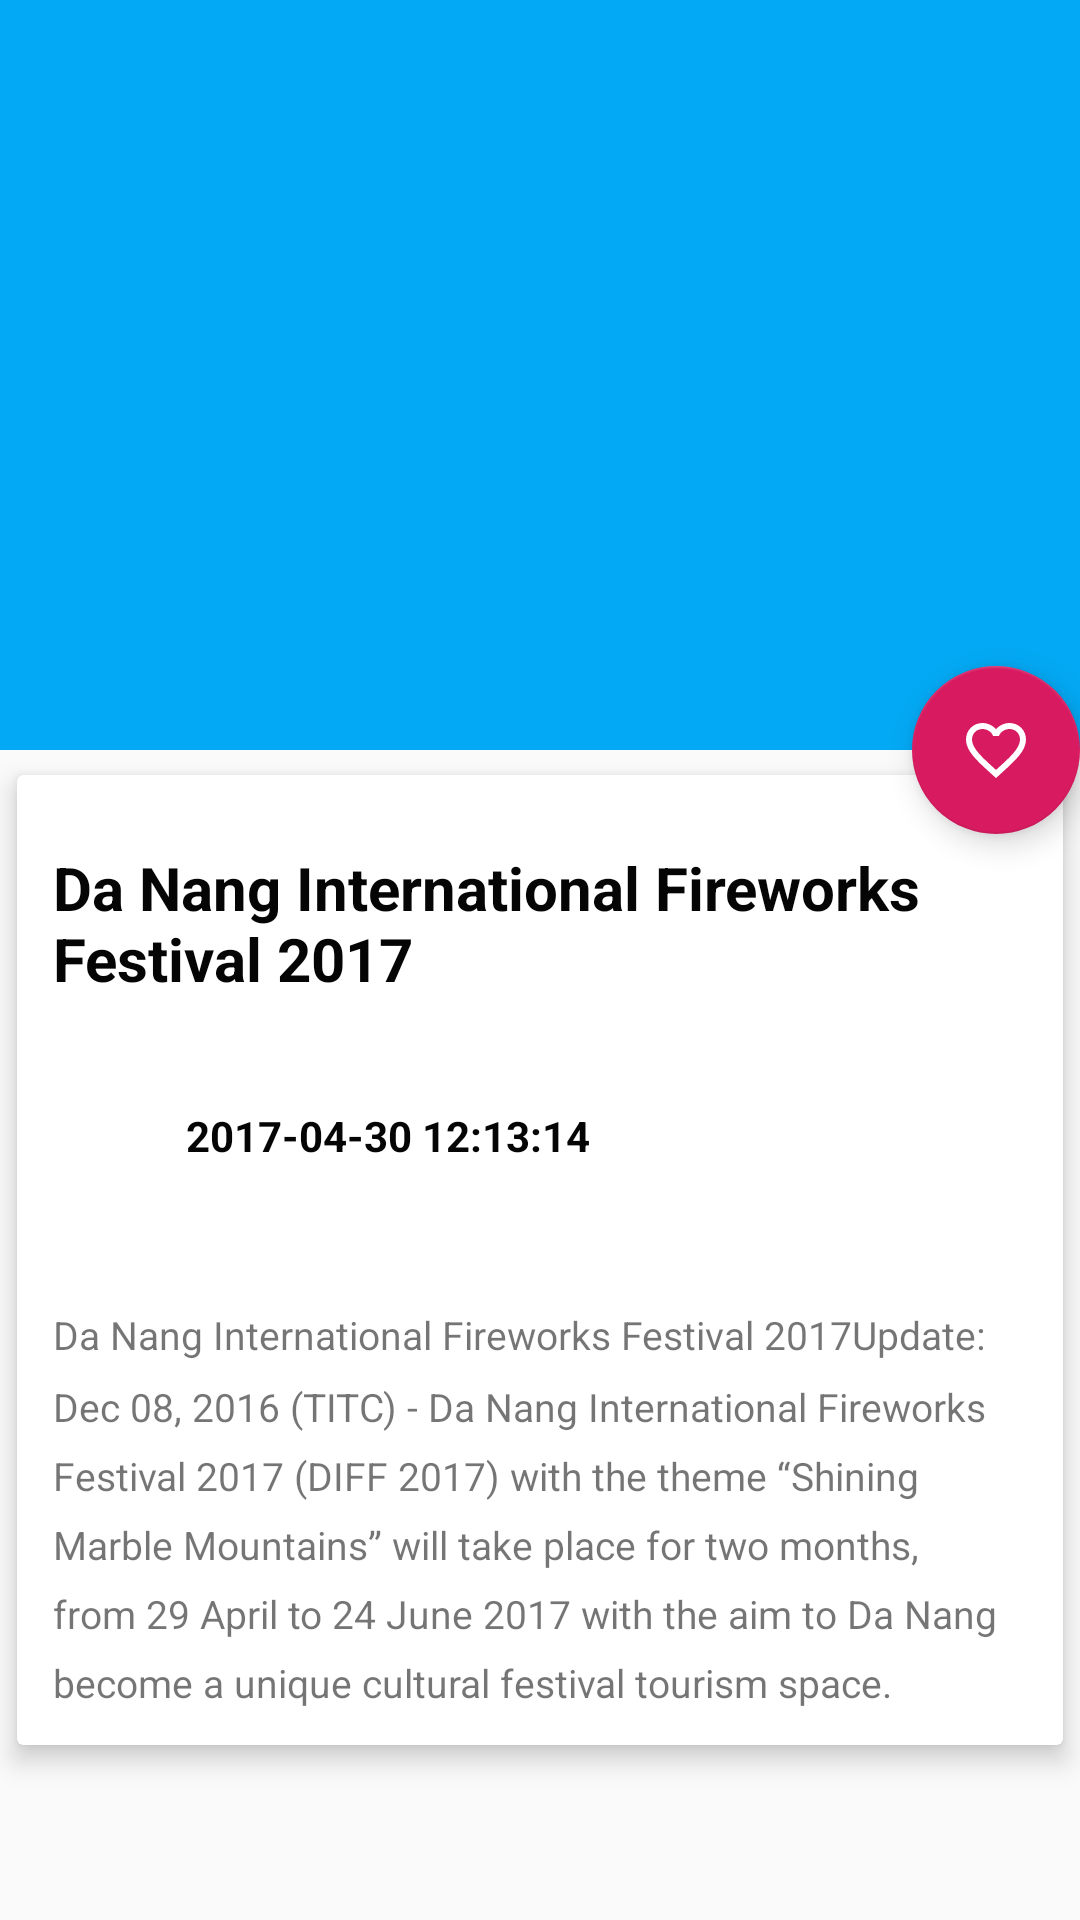

Point at icon controls on the screen. Image size 1080w x 1920h, points as (x,y).
is liked: (996,750)
